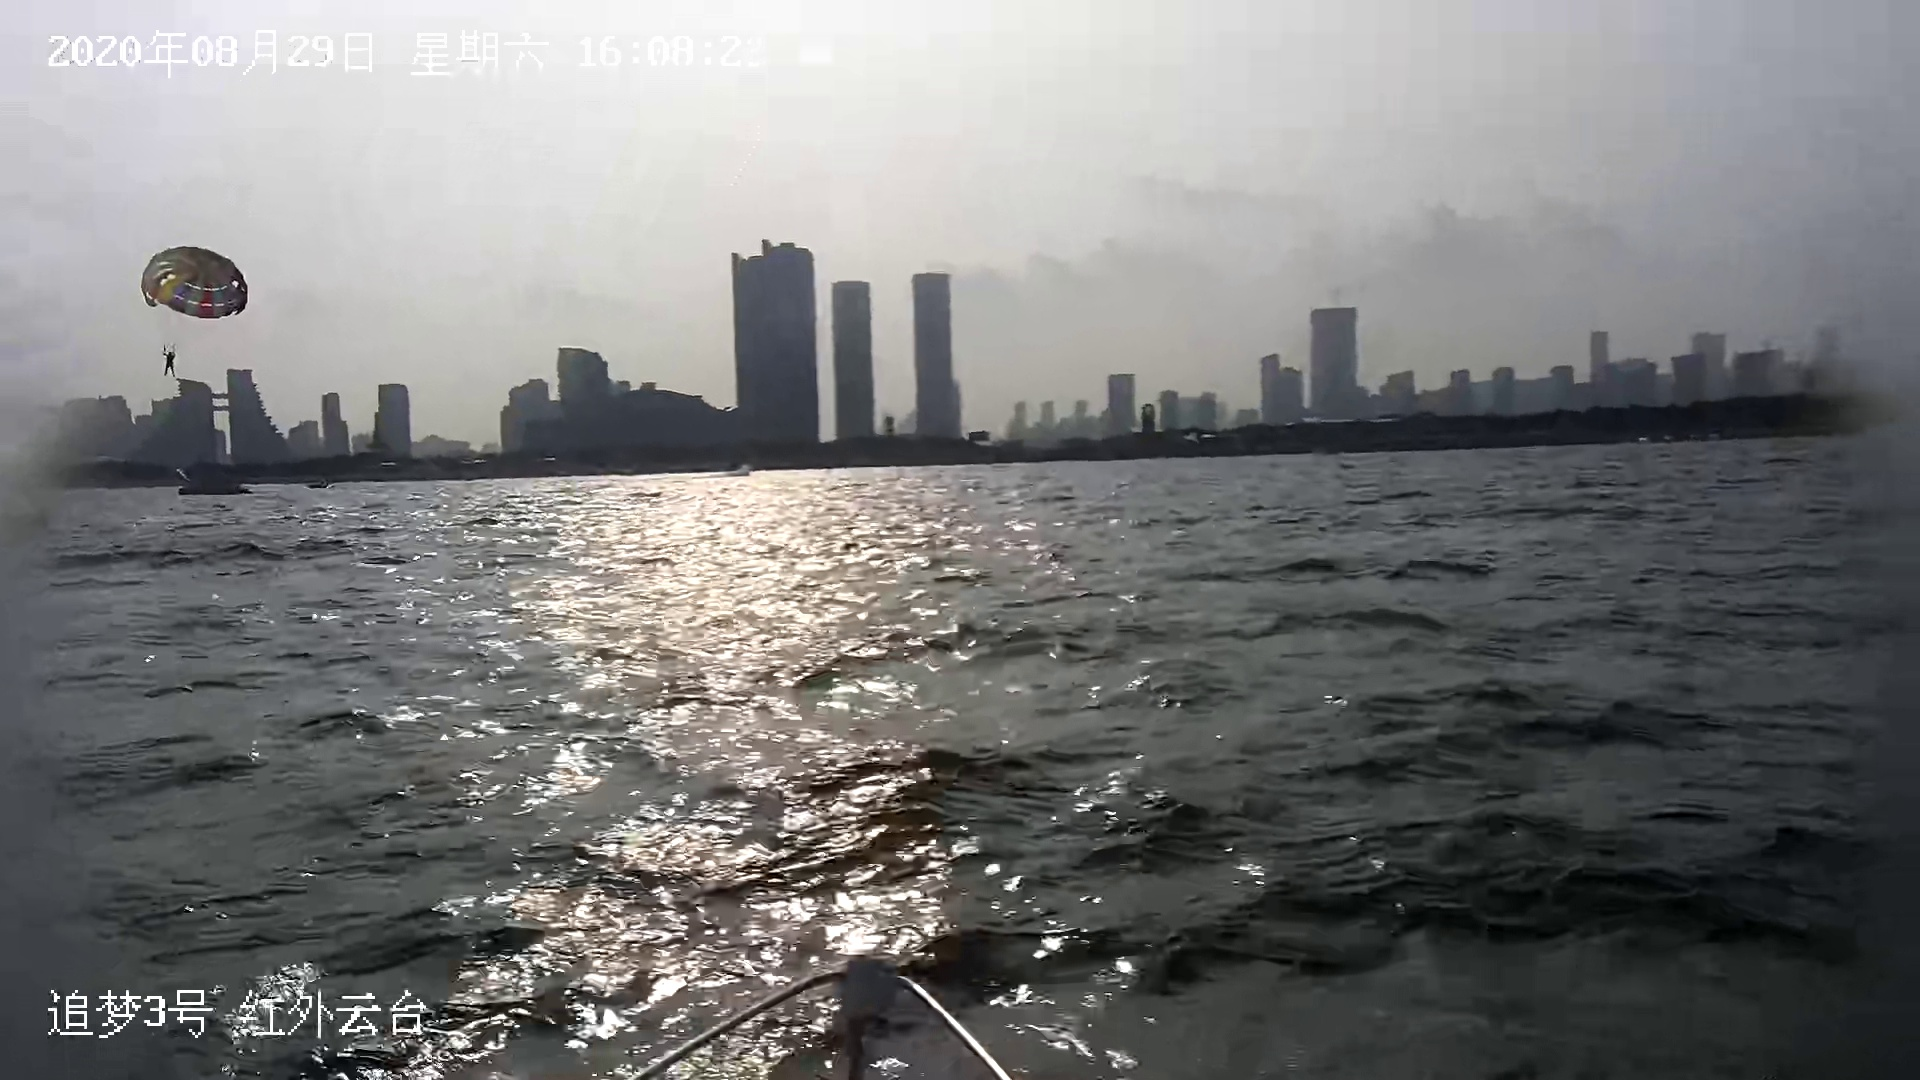barrier: (174, 483, 252, 496), (307, 477, 332, 492)
coast: (15, 239, 1917, 487)
